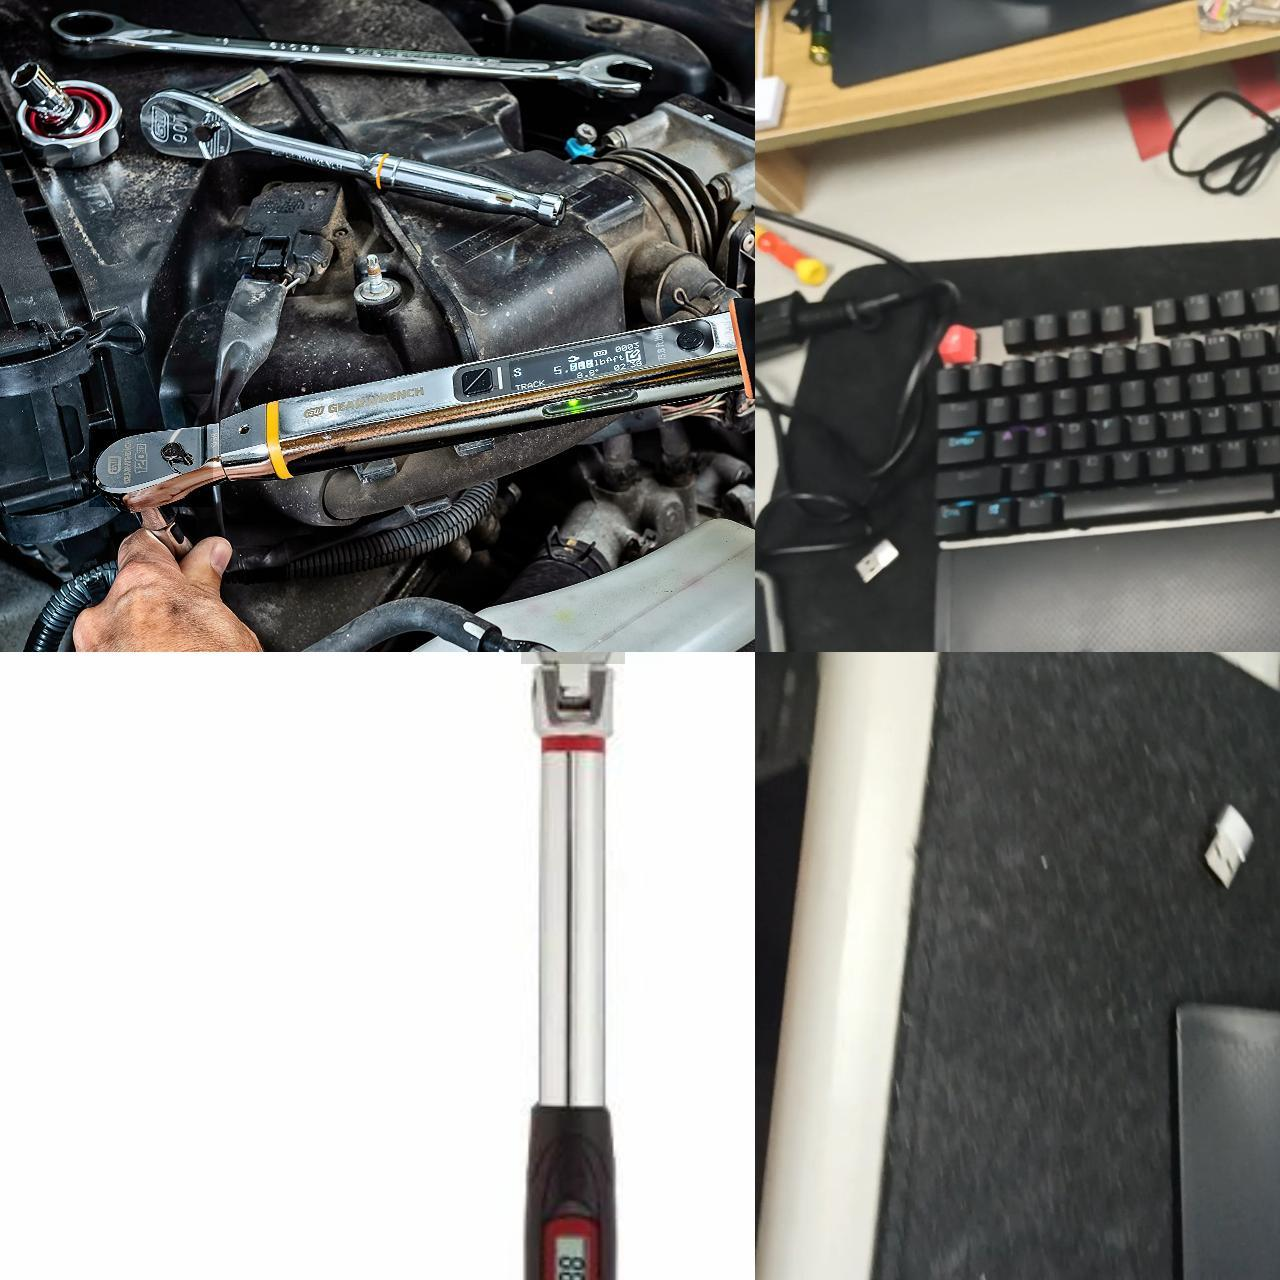Tool: (88, 428, 212, 506)
